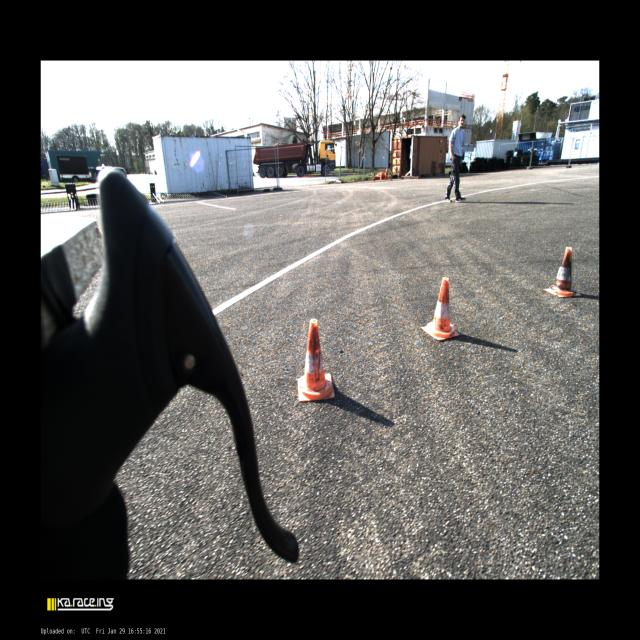large_orange_cone: (380, 171, 383, 180)
orange_cone: (298, 319, 334, 401), (421, 277, 460, 340), (544, 247, 580, 297), (385, 166, 388, 173)
